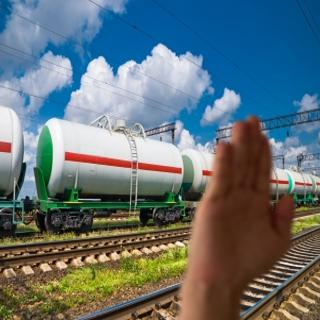RIGHT: (179, 111, 300, 297)
